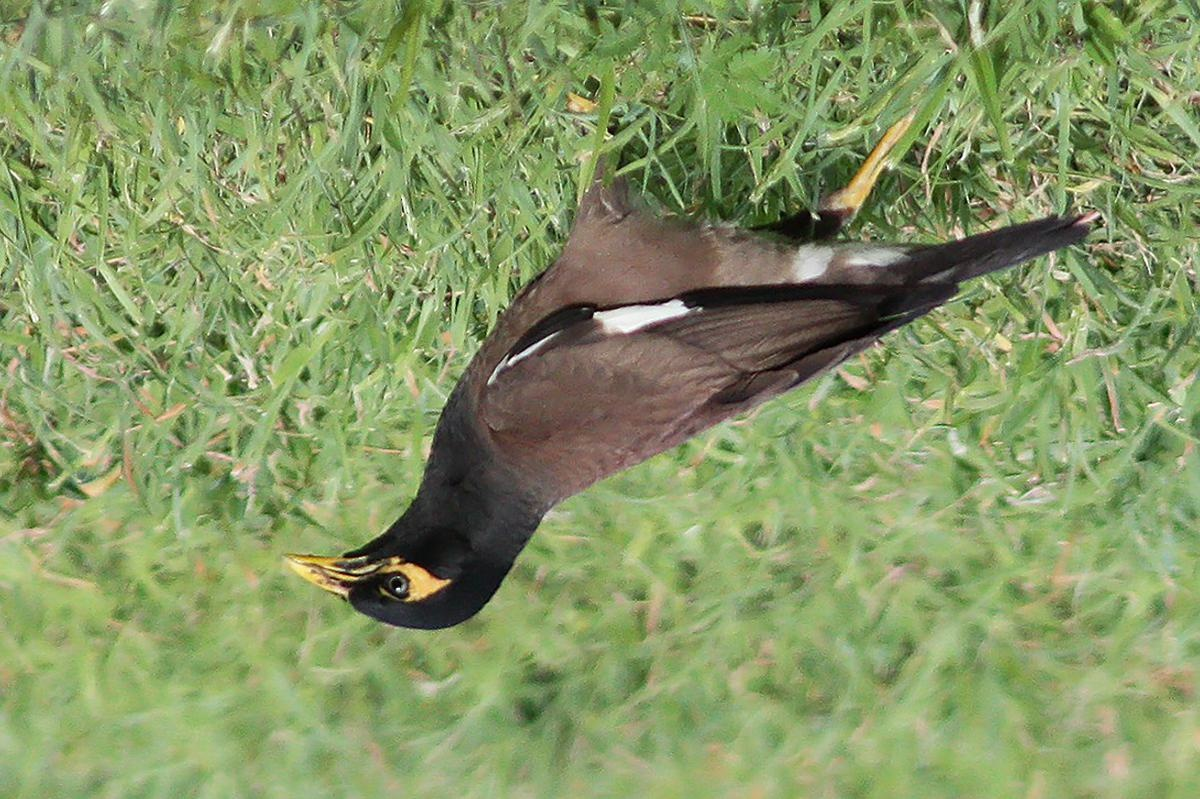myna: (258, 167, 1038, 649)
